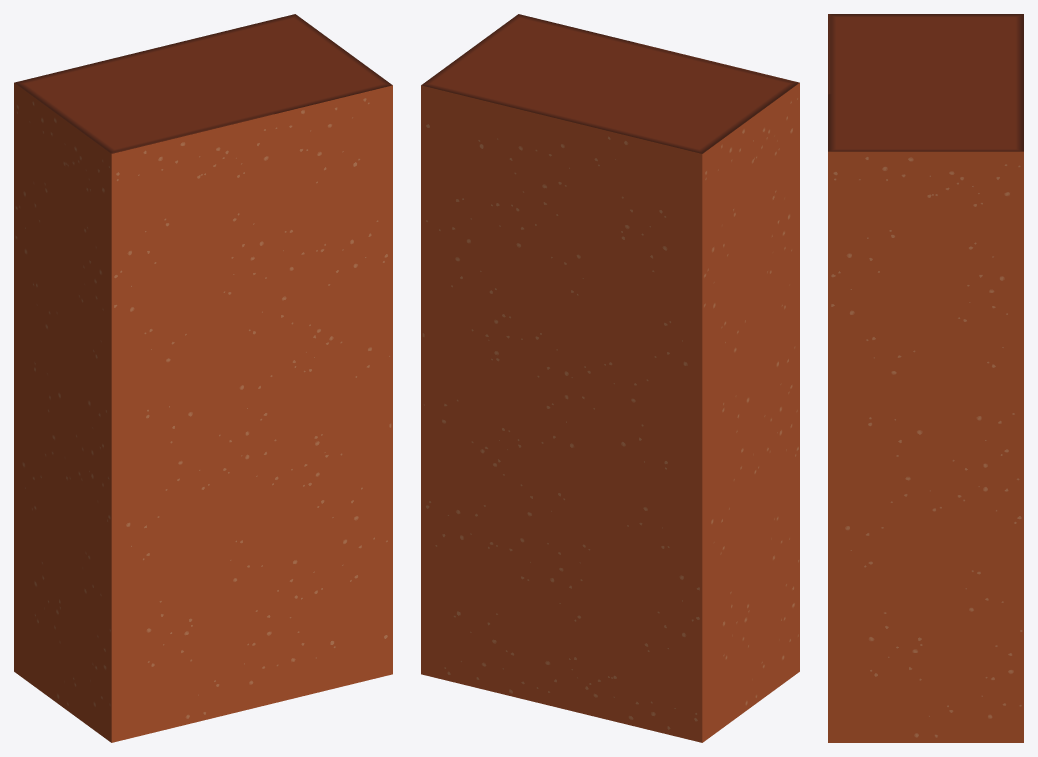
Rendered from Wall_100cm.fbx.
3 views of the same model, side by side, from view 1: azimuth 30°, elevation 25°; view 2: azimuth 150°, elevation 25°; view 3: azimuth 270°, elevation 25° (orthographic).
Visible parts, largest first — view 1: Wall_100cm; view 2: Wall_100cm; view 3: Wall_100cm.
Boxes of the visible parts, x1,y1,x2,y2 form: Wall_100cm: (14,14,392,742); Wall_100cm: (421,14,799,742); Wall_100cm: (828,14,1023,742).
Bounding box in the file's own units: 100 × 200 × 60.
